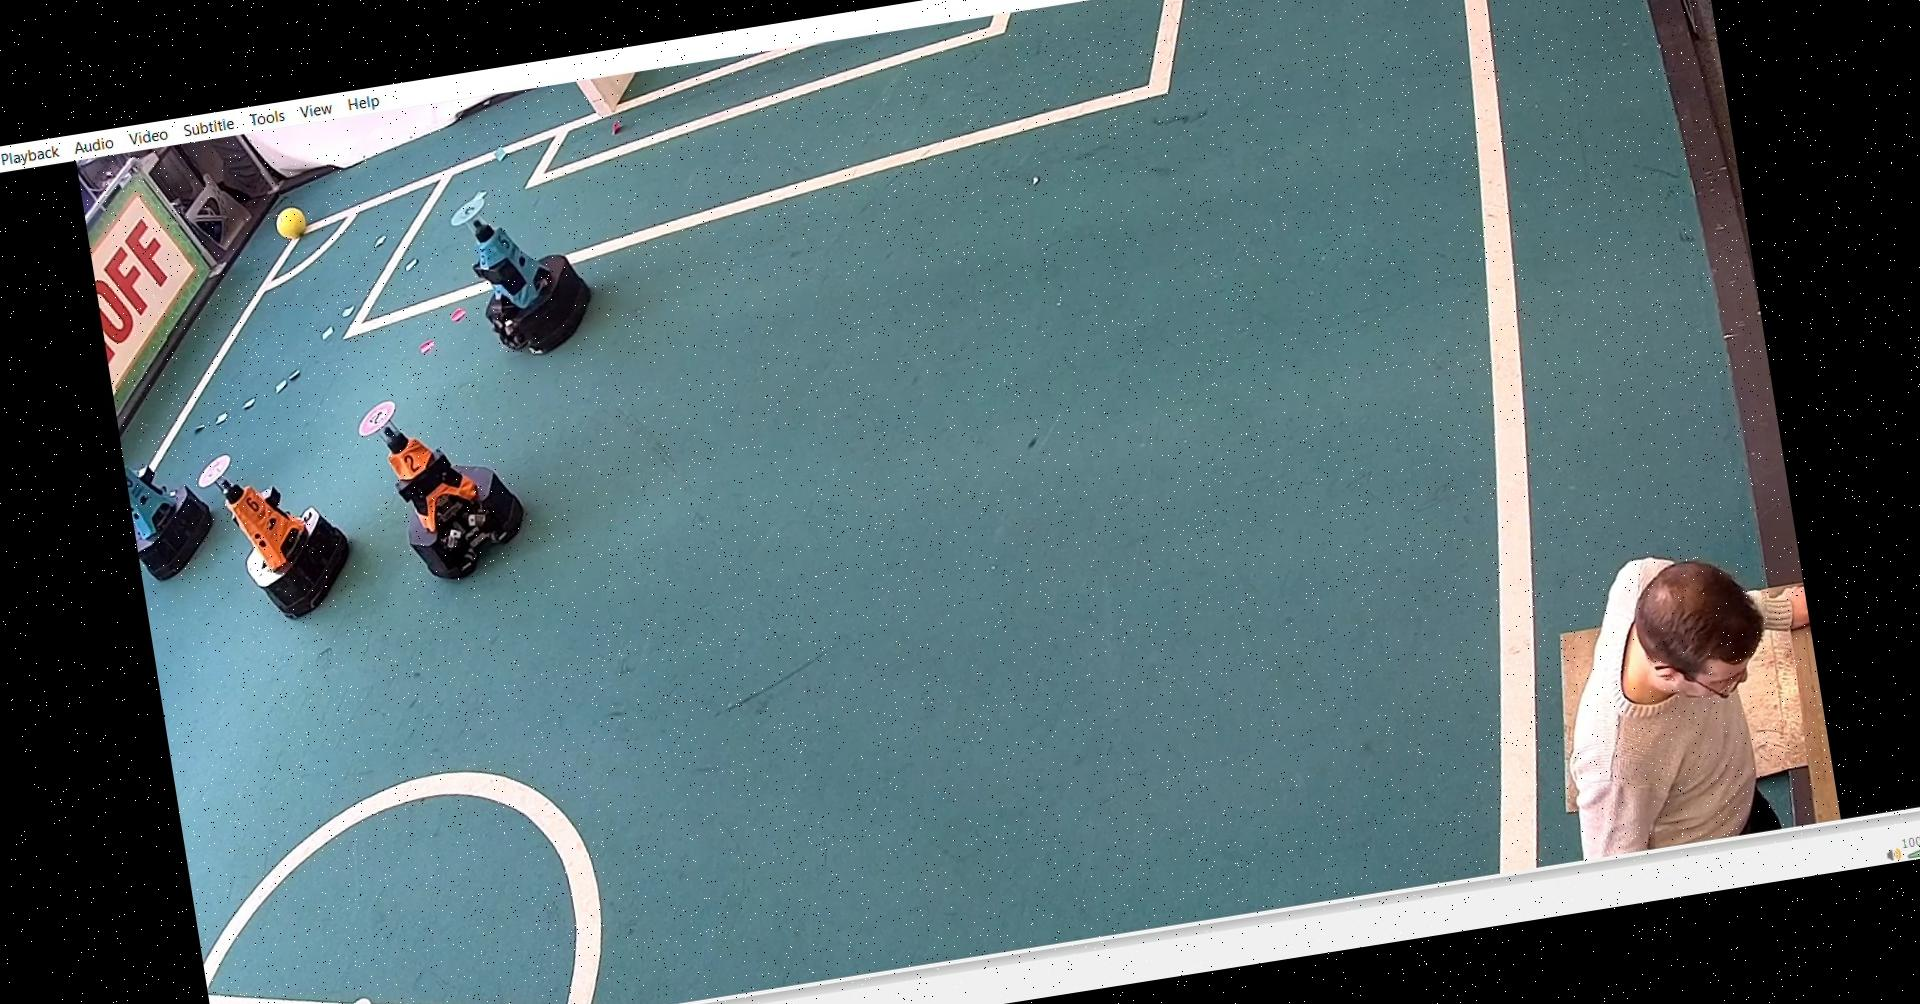Ball: (272, 204, 312, 242)
Team_Blue: (444, 171, 610, 366), (121, 434, 239, 584)
Team_Red: (350, 371, 537, 590), (193, 434, 354, 627)
